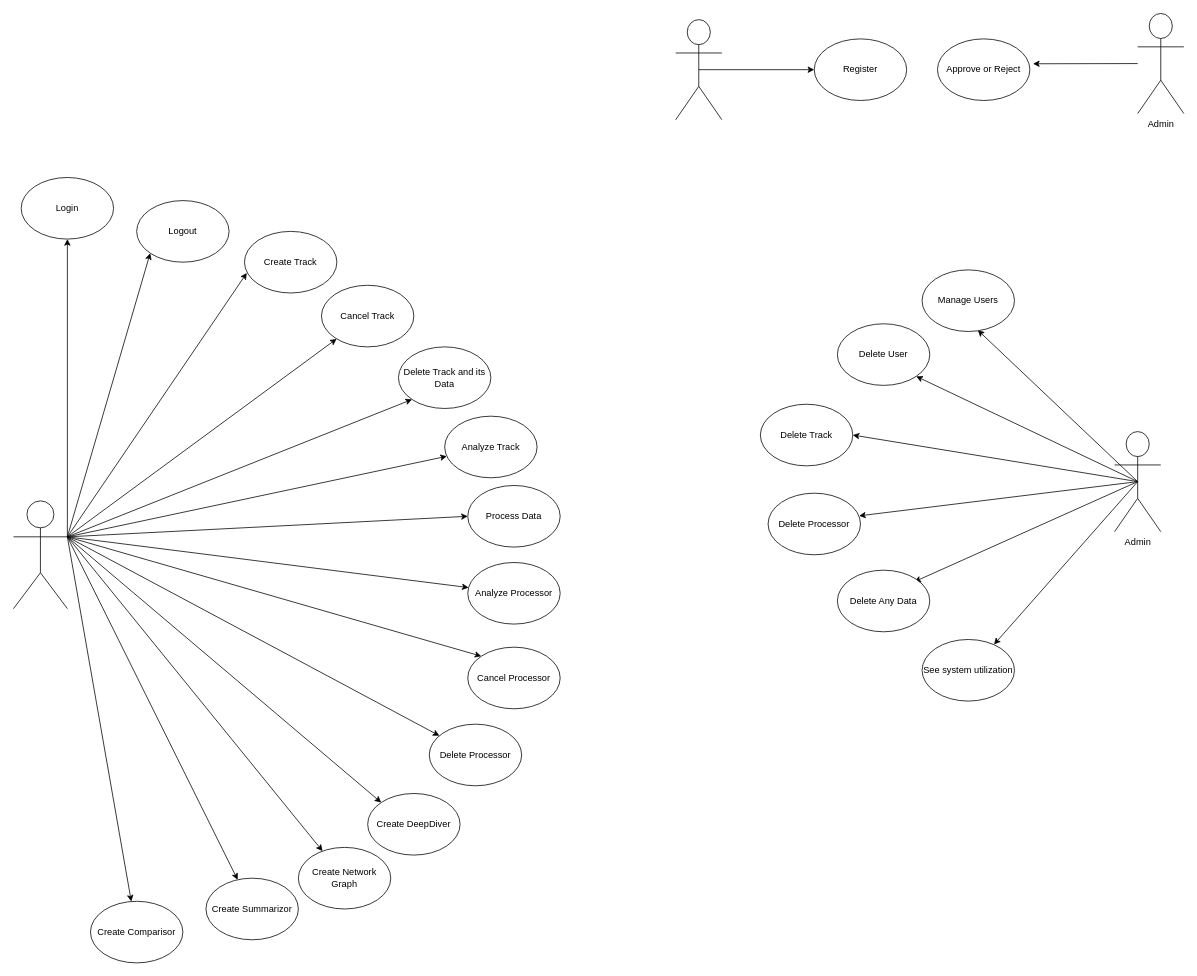
The diagram is 1197 pixels wide and 976 high, and some of its shapes have lost their labels. The centre of each missing label's shape, as x and y in pixels:
User: the point at 40,554
Visitor: the point at 698,69
